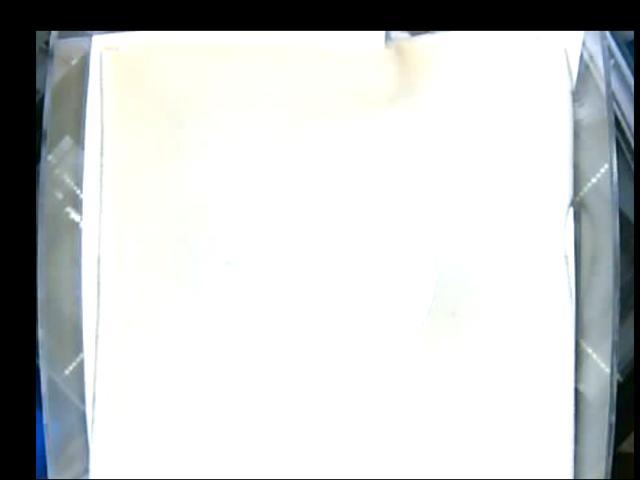Cup: (281, 197, 434, 352)
